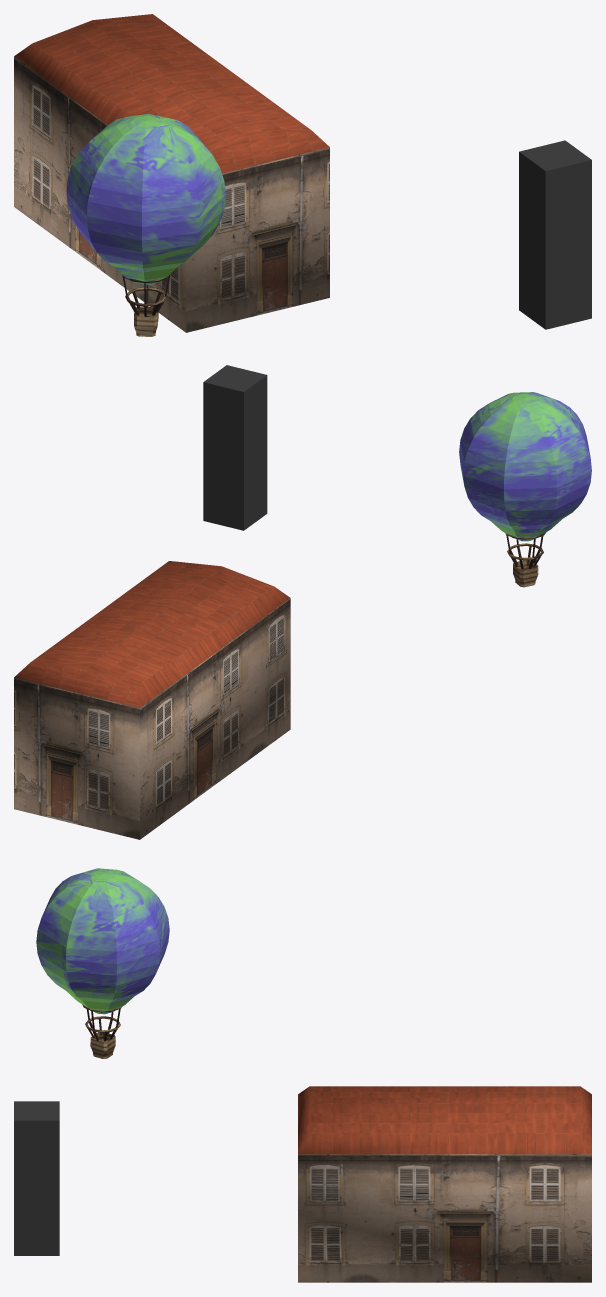
File: scene-simple-parenting.fbx
3 views of the same model, one above another, from view 1: azimuth 30°, elevation 25°; view 2: azimuth 150°, elevation 25°; view 3: azimuth 270°, elevation 25° (orthographic). The views are drawn at different scales.
Visible parts, largest first — view 1: house, hotairbaloon, Cube; view 2: house, hotairbaloon, Cube; view 3: house, hotairbaloon, Cube.
Boxes of the visible parts, box(x1,y1,x2,y2) form: house: box(14, 14, 329, 332); hotairbaloon: box(66, 114, 225, 336); Cube: box(519, 140, 591, 329); house: box(14, 561, 290, 839); hotairbaloon: box(459, 392, 591, 587); Cube: box(203, 365, 267, 530); house: box(298, 1086, 591, 1282); hotairbaloon: box(36, 868, 169, 1058); Cube: box(14, 1101, 59, 1255).
Size of the model in its own units: 19.93 by 25.34 by 13.75.
